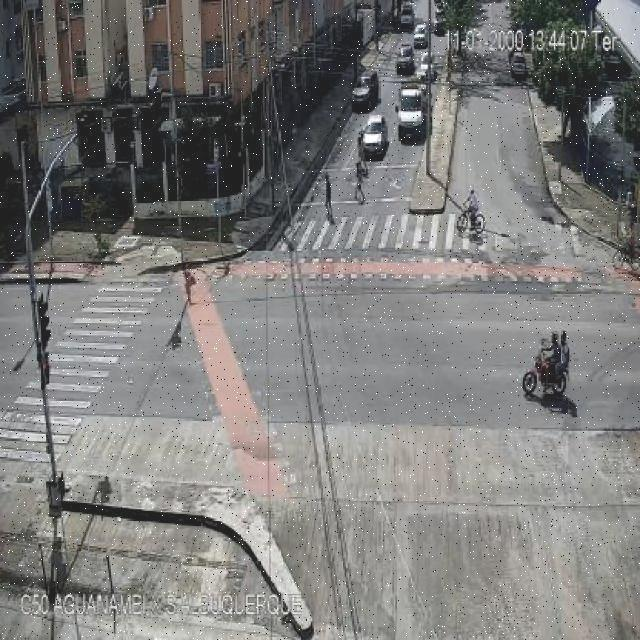Car: (358, 114, 386, 156), (398, 41, 415, 71), (508, 51, 526, 74), (421, 52, 438, 74)
Cycle: (519, 350, 573, 394), (455, 205, 487, 235)
Truck: (394, 87, 428, 141)
Van: (348, 71, 380, 111)
